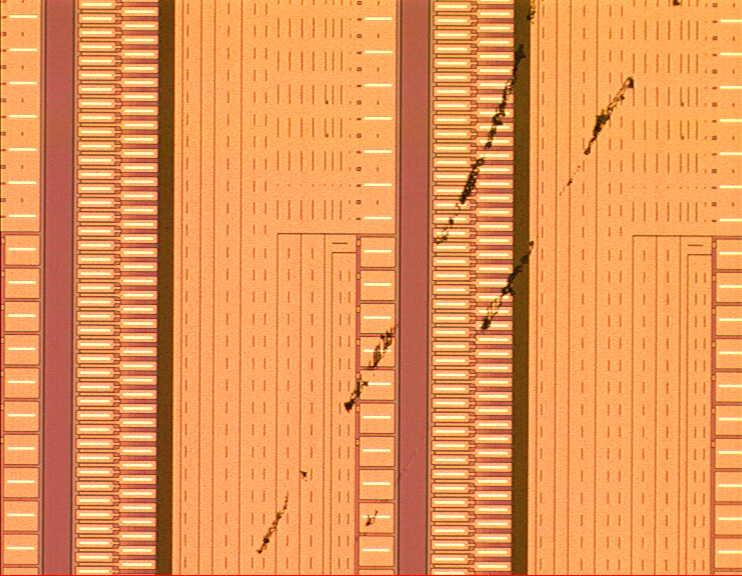SCRATCH: (318, 1, 690, 573), (227, 1, 548, 576)
